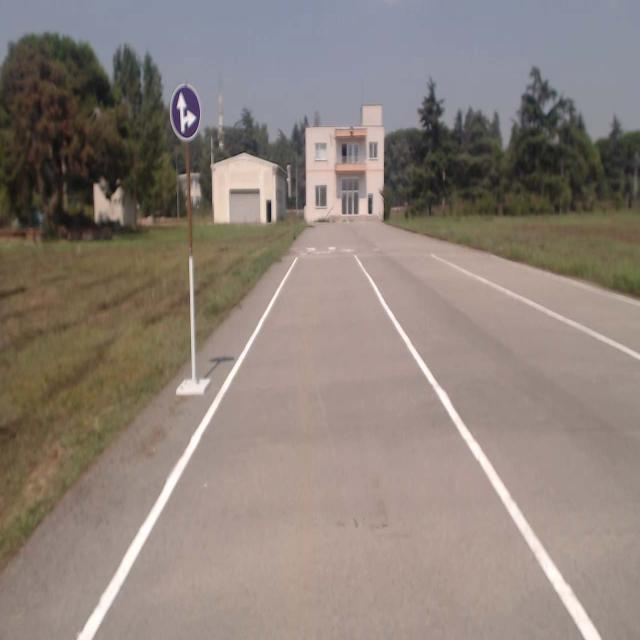ilerisag: (170, 84, 202, 140)
